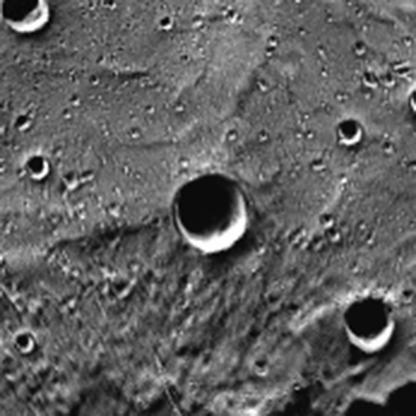craters: (158, 164, 261, 268), (332, 290, 406, 358), (0, 0, 83, 44), (21, 136, 56, 212), (329, 110, 375, 152), (0, 322, 52, 356)
